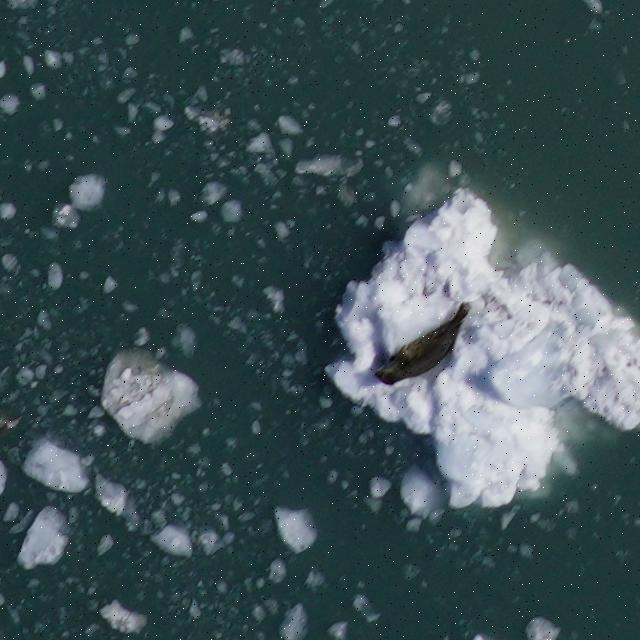seal: (372, 301, 477, 390)
